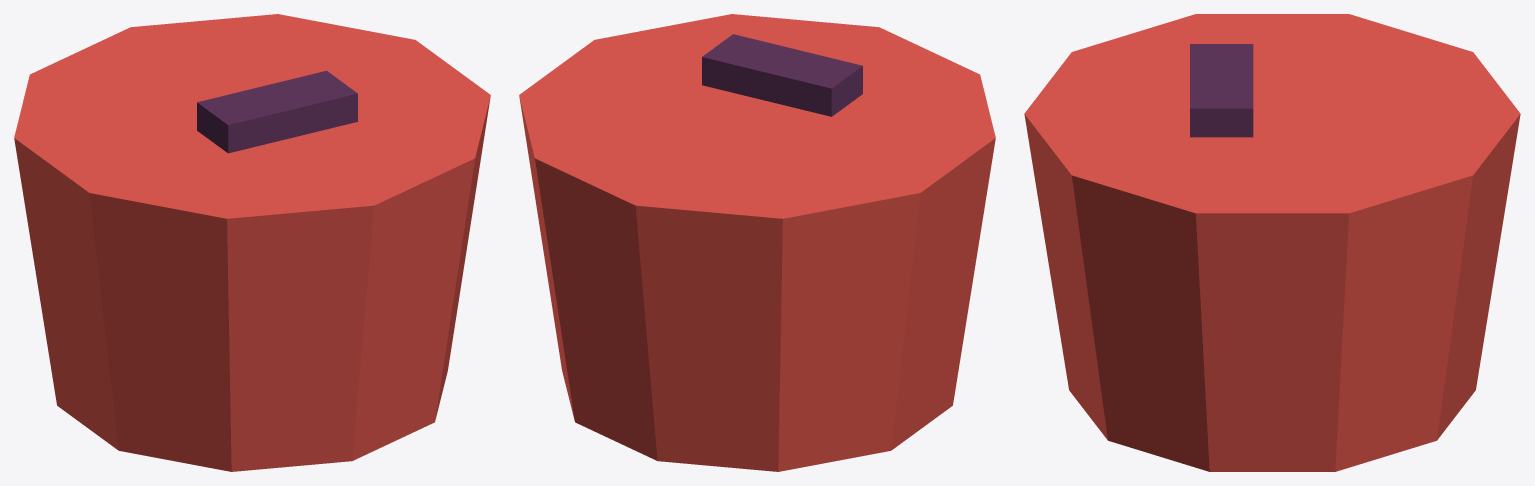
The model's file is crushed-soda-can.obj.
3 renders of one model, left to right at view 1: azimuth 30°, elevation 25°; view 2: azimuth 150°, elevation 25°; view 3: azimuth 270°, elevation 25°, orthographic.
Parts seen in each view (by area): view 1: crumpled-soda-can, tiny-pull-tab; view 2: crumpled-soda-can, tiny-pull-tab; view 3: crumpled-soda-can, tiny-pull-tab.
Part boxes in pixels (box(x1,y1,x2,y2)): crumpled-soda-can: box(14, 14, 490, 471); tiny-pull-tab: box(197, 70, 357, 153); crumpled-soda-can: box(519, 14, 995, 471); tiny-pull-tab: box(702, 34, 862, 116); crumpled-soda-can: box(1024, 14, 1520, 471); tiny-pull-tab: box(1190, 44, 1253, 137).
Bounding box in the file's own units: 0.3712 × 0.2725 × 0.3904.
